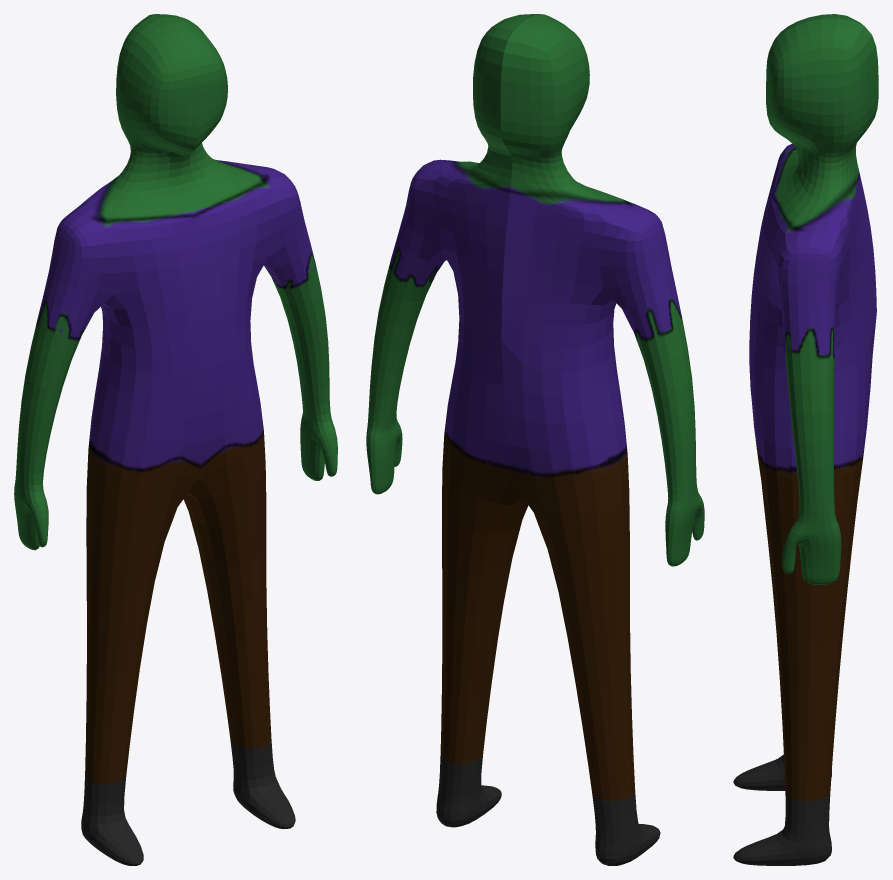
The model's file is zombie.fbx.
3 renders of one model, left to right at view 1: azimuth 30°, elevation 25°; view 2: azimuth 150°, elevation 25°; view 3: azimuth 270°, elevation 25°, orthographic. The views are drawn at different scales.
Parts seen in each view (by area): view 1: Cube; view 2: Cube; view 3: Cube.
Part boxes in pixels (x1,y1,x2,y2): Cube: [14, 14, 337, 865]; Cube: [366, 14, 704, 865]; Cube: [733, 14, 878, 865].
Bounding box in the file's own units: 314 × 779 × 127.
